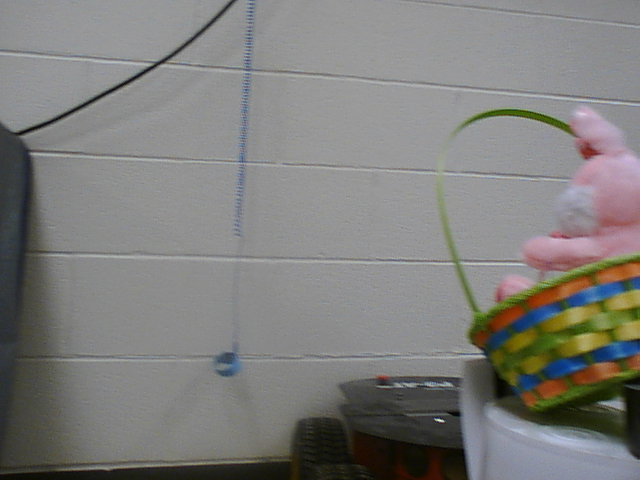bunny: (429, 85, 640, 410)
